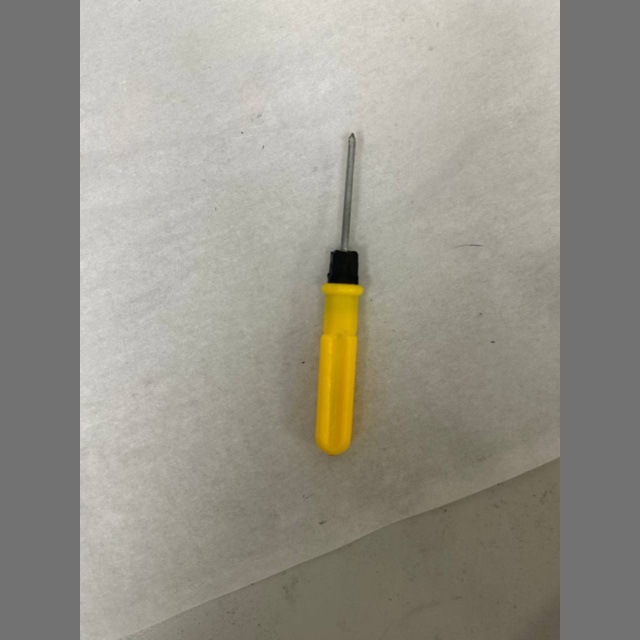screwdriver: (316, 133, 364, 455)
